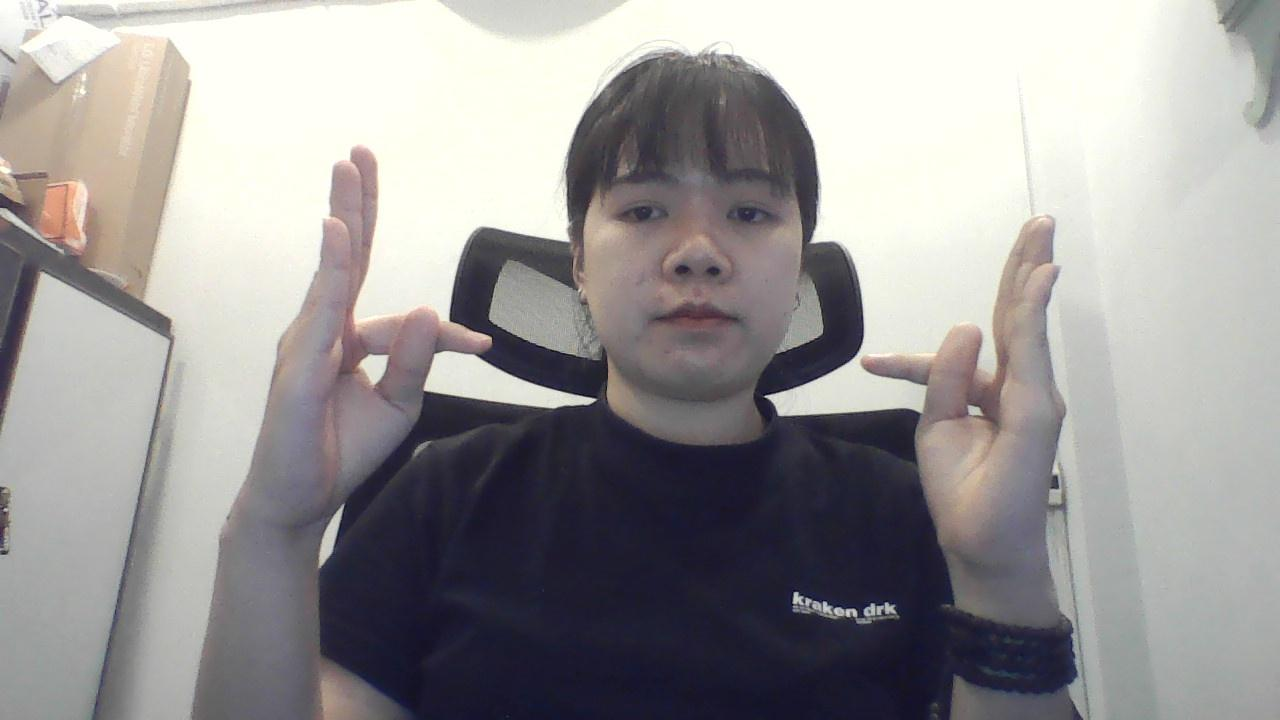T: (817, 196, 1098, 593), (217, 144, 502, 530)
